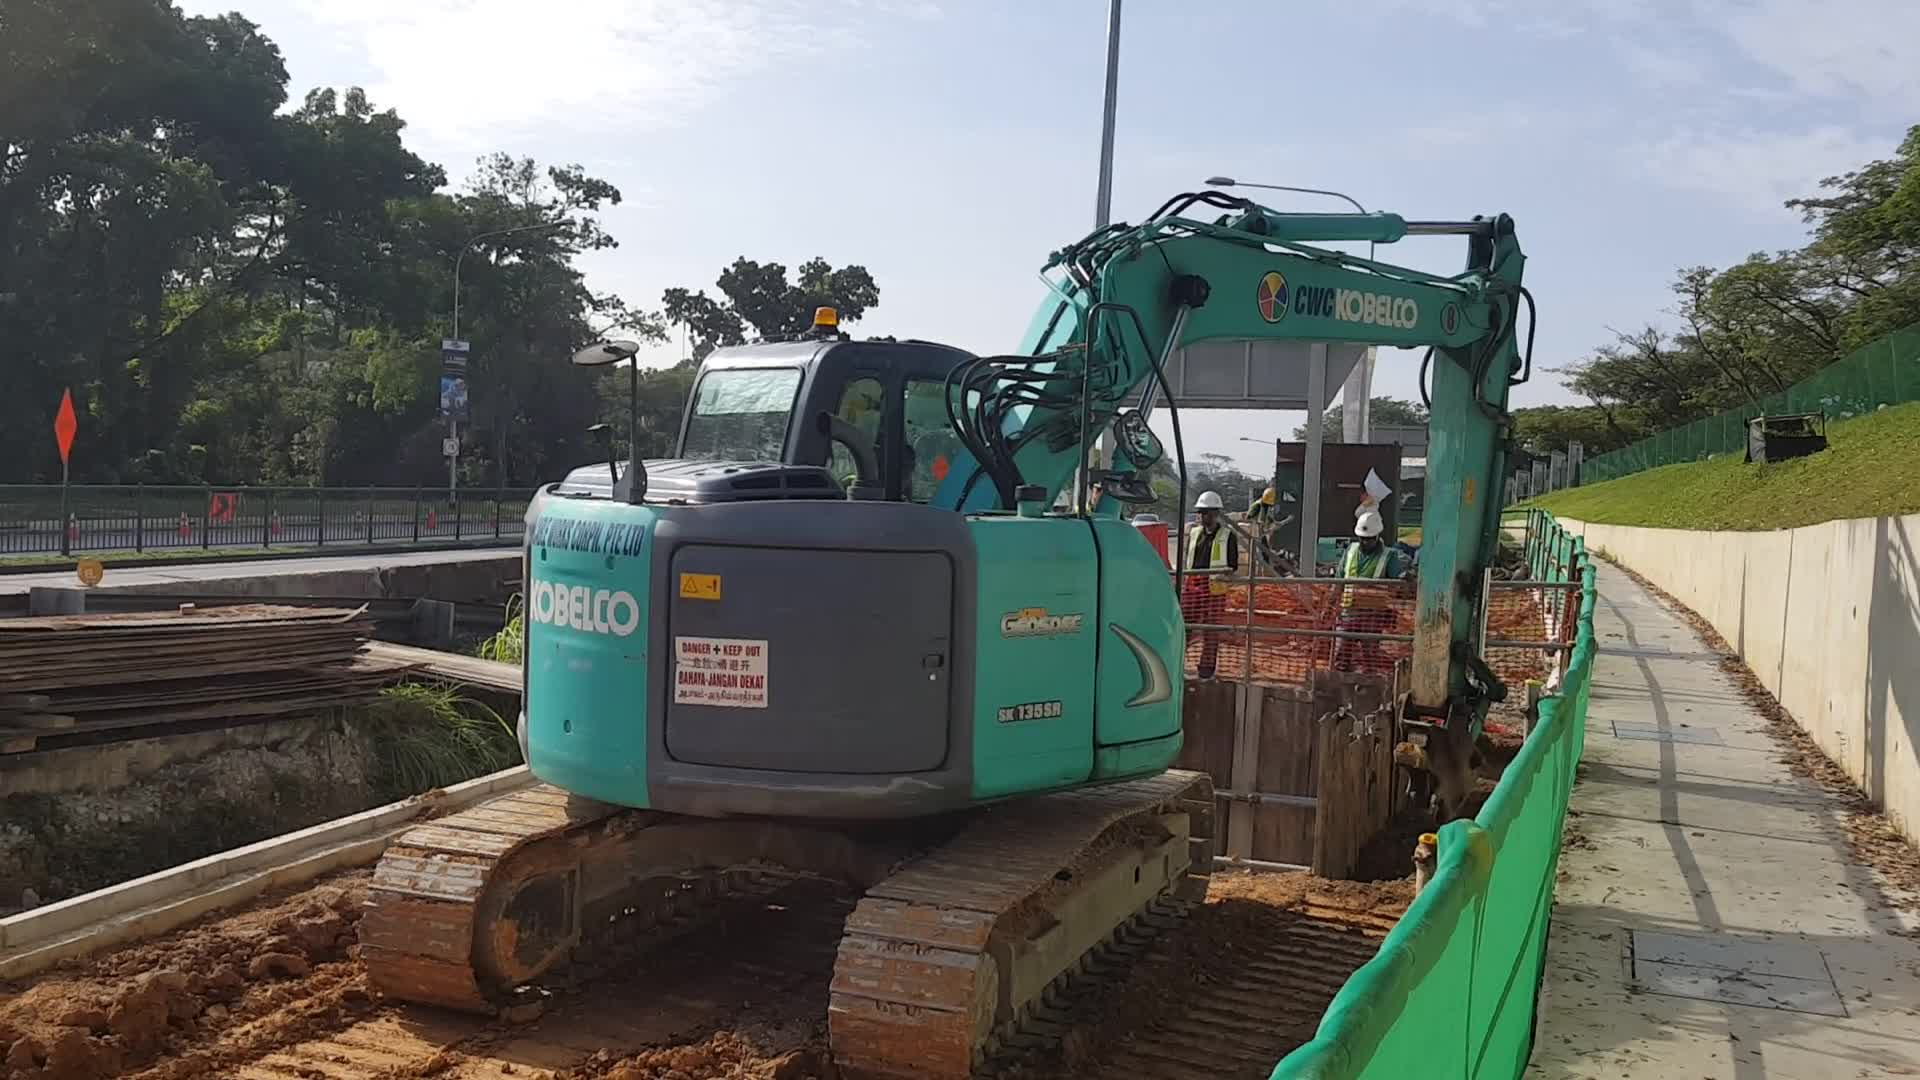cabin: (526, 298, 1188, 815)
forearm: (1419, 215, 1532, 673)
upperarm: (911, 214, 1487, 506)
wheelbase: (360, 757, 1221, 1080)
